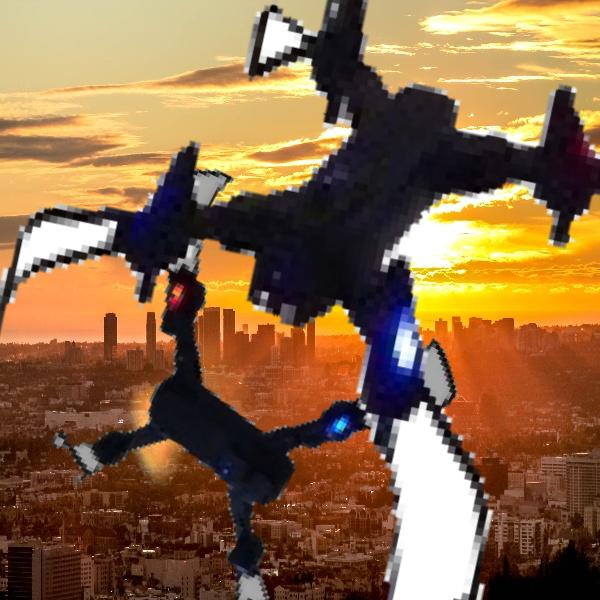drone: (45, 199, 445, 599)
